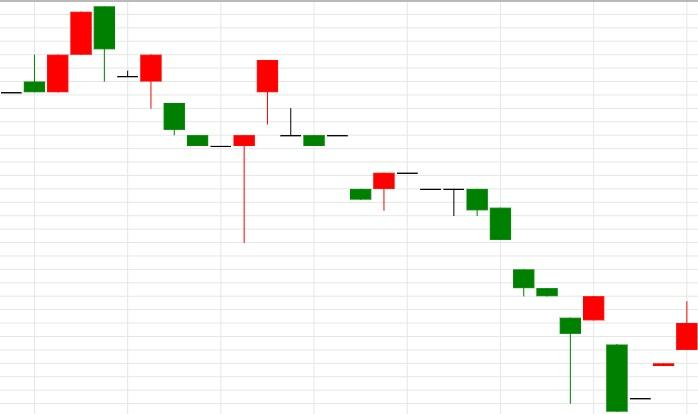hammer_rise: (396, 171, 582, 404)
morning_star_rise: (93, 6, 256, 244)
